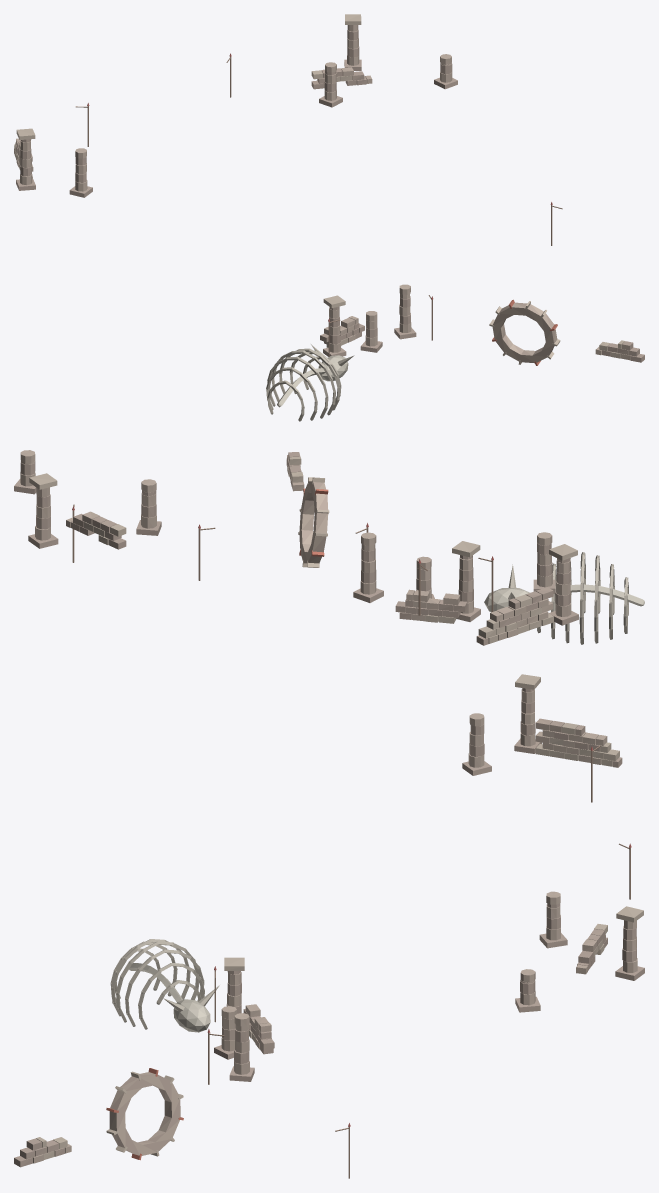
Rendered from props.glb.
3 views of the same model, one above another, from view 1: azimuth 30°, elevation 25°; view 2: azimuth 150°, elevation 25°; view 3: azimuth 270°, elevation 25° (orthographic). The views are drawn at different scales.
Parts seen in each view (by area): view 1: props-col; view 2: props-col; view 3: props-col.
Part boxes in pixels (box(x1,y1,x2,y2)): props-col: box(14, 14, 644, 421); props-col: box(14, 450, 644, 645); props-col: box(14, 674, 644, 1178).
Bounding box in the file's own units: 53.71 × 22.63 × 49.42.
